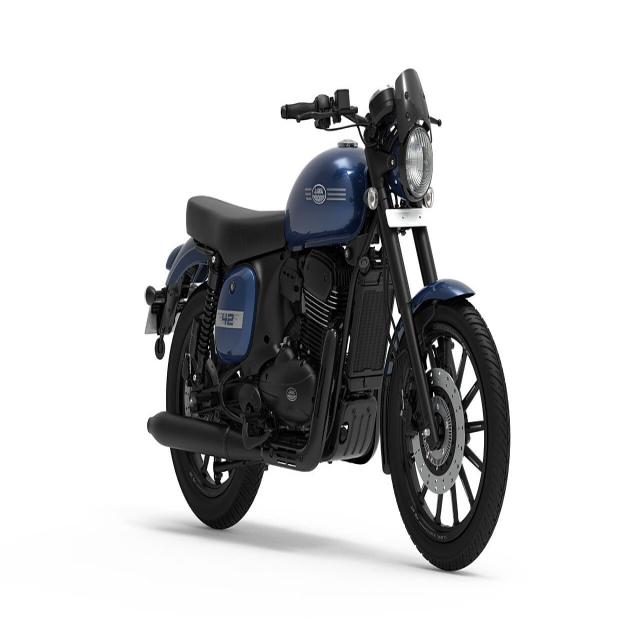Bike: (142, 69, 512, 568)
